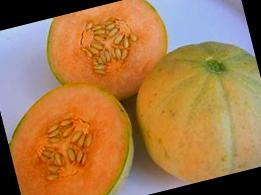Melon Ripe: (0, 66, 148, 195), (33, 0, 180, 113)
